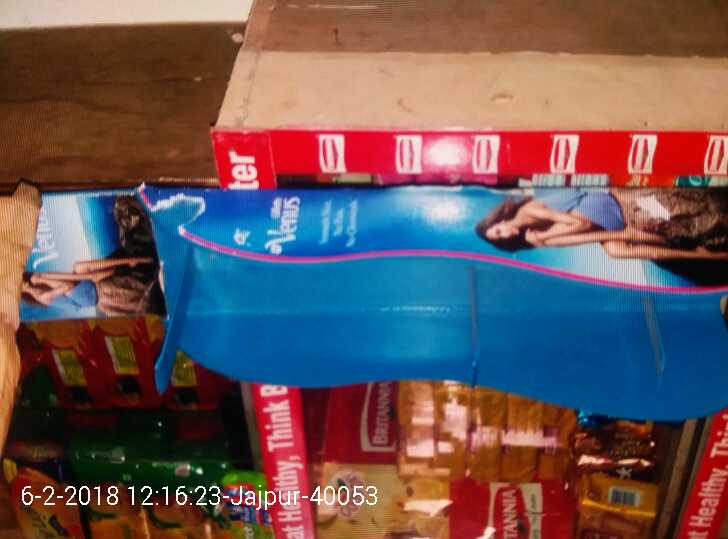reject: (276, 186, 322, 228)
